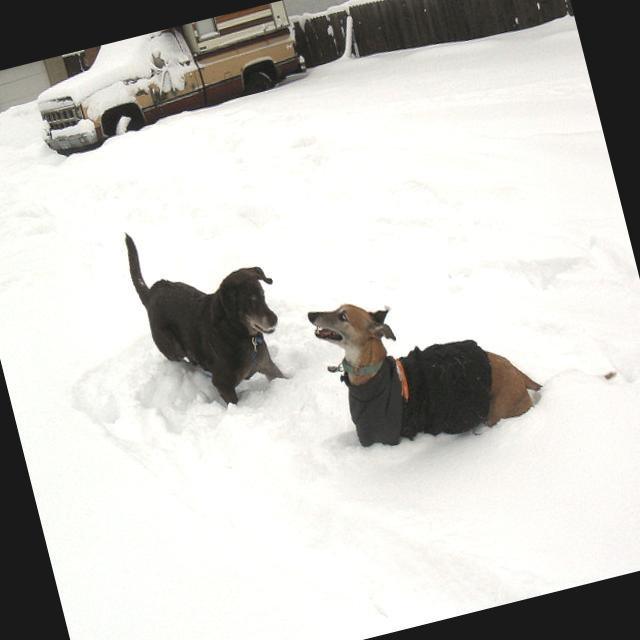Vehicle: (28, 0, 309, 161)
